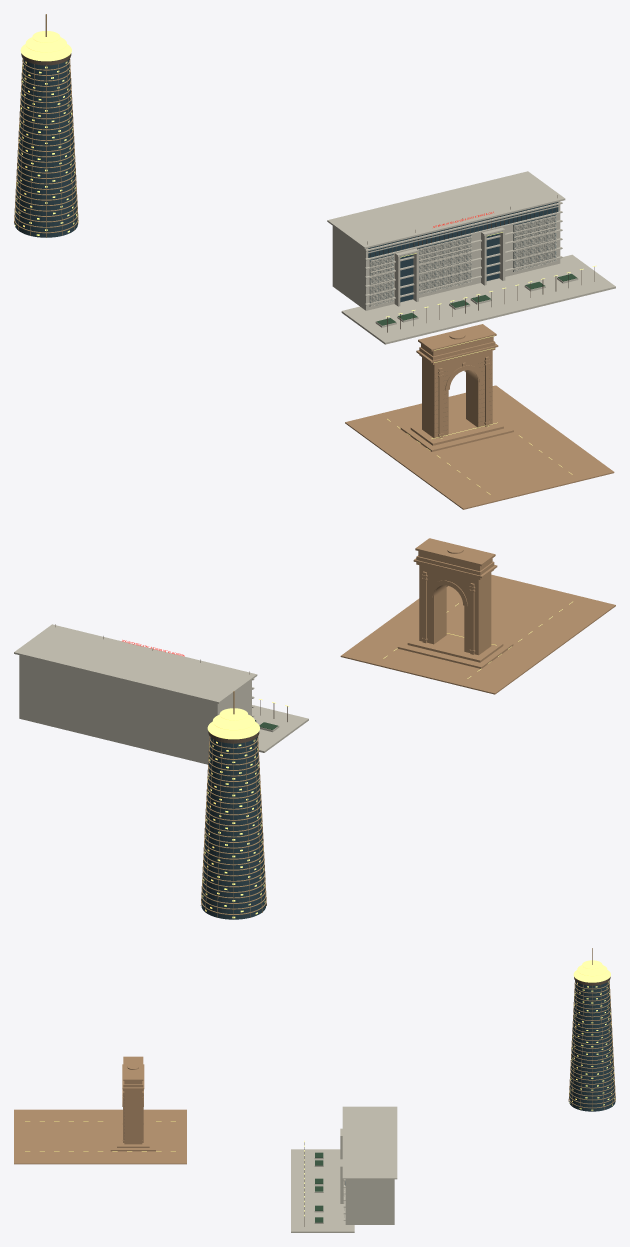
File: north-india.glb
The picture shows the model from 3 angles, top to bottom: view 1: azimuth 30°, elevation 25°; view 2: azimuth 150°, elevation 25°; view 3: azimuth 270°, elevation 25°; orthographic projection. The views are drawn at different scales.
Visible parts, largest first — view 1: Campus limestone, Delhi sandstone, Architectural blue glass, Champagne metal, Architectural warm light, Dark bronze; view 2: Campus limestone, Delhi sandstone, Architectural blue glass, Champagne metal, Architectural warm light; view 3: Delhi sandstone, Campus limestone, Architectural blue glass, Champagne metal, Architectural warm light.
Part boxes in pixels (box(x1,y1,x2,y2)): Campus limestone: box(327, 171, 615, 344); Delhi sandstone: box(345, 324, 614, 509); Architectural blue glass: box(14, 59, 558, 305); Champagne metal: box(14, 14, 78, 237); Architectural warm light: box(15, 31, 596, 494); Dark bronze: box(21, 53, 594, 401); Campus limestone: box(14, 624, 308, 764); Delhi sandstone: box(340, 538, 615, 694); Architectural blue glass: box(201, 737, 266, 919); Champagne metal: box(200, 691, 266, 919); Architectural warm light: box(202, 601, 572, 918); Delhi sandstone: box(14, 1056, 186, 1164); Campus limestone: box(291, 1106, 397, 1232); Architectural blue glass: box(345, 981, 615, 1185); Champagne metal: box(568, 948, 615, 1111); Architectural warm light: box(25, 960, 614, 1216).
Size of the model in its own units: 181 by 93.85 by 330.
